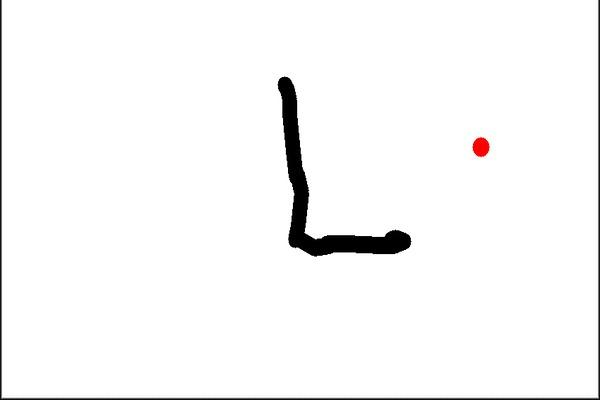L: (267, 66, 415, 261)
